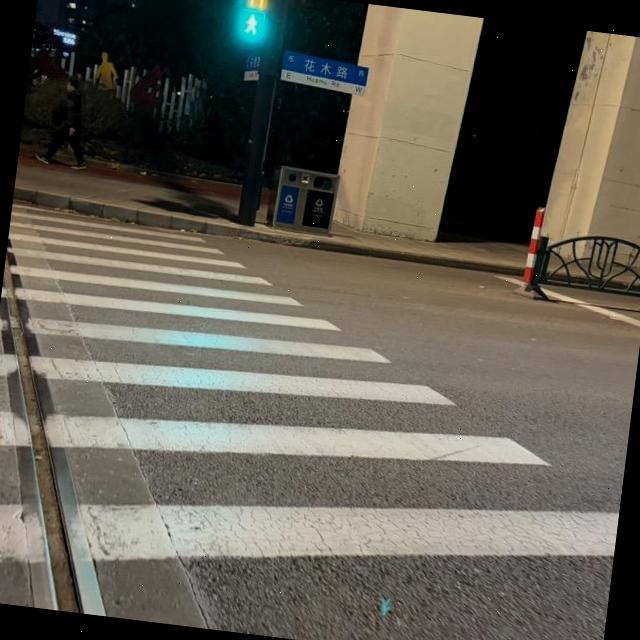curb: (12, 186, 514, 274)
